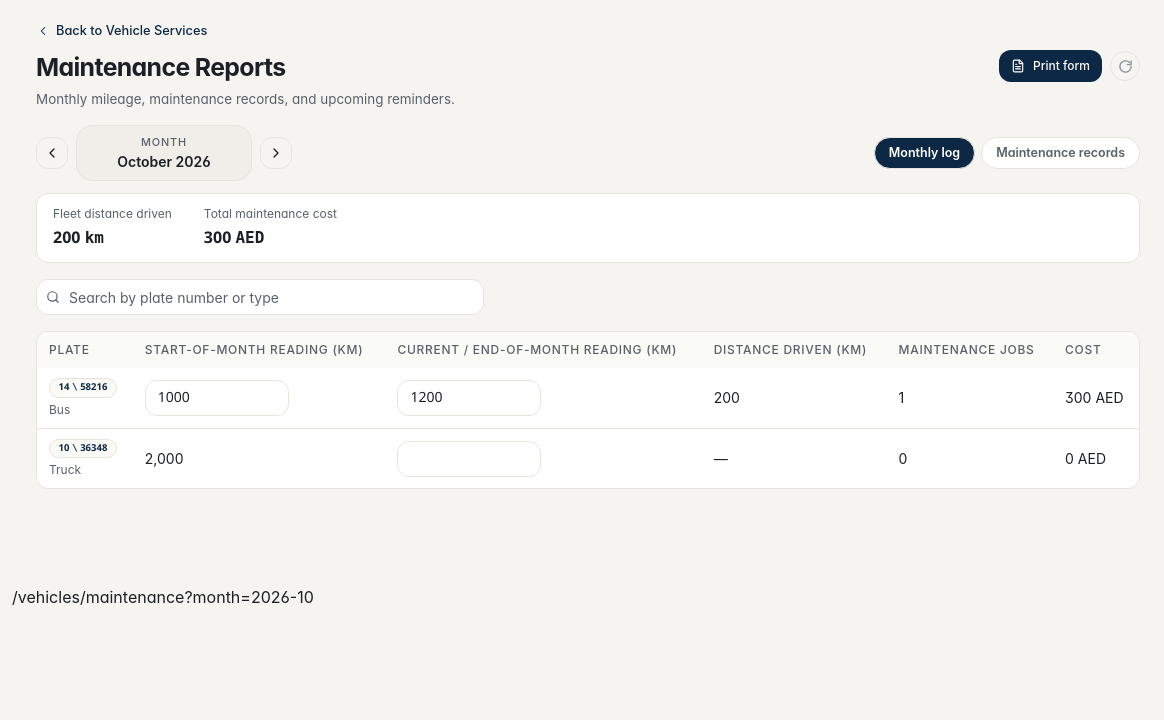
Test: monthly vehicle maintenance › finds a vehicle by plate number typed in Arabic digits
This screenshot has width=1164, height=720.
Expected: the text "Bus" is shown, [49, 402, 70, 418]
Type "١٠ ٣٦٣٤٨" into the search field labelled "Search by plate number or type" at point(260, 297), box [36, 279, 484, 315]
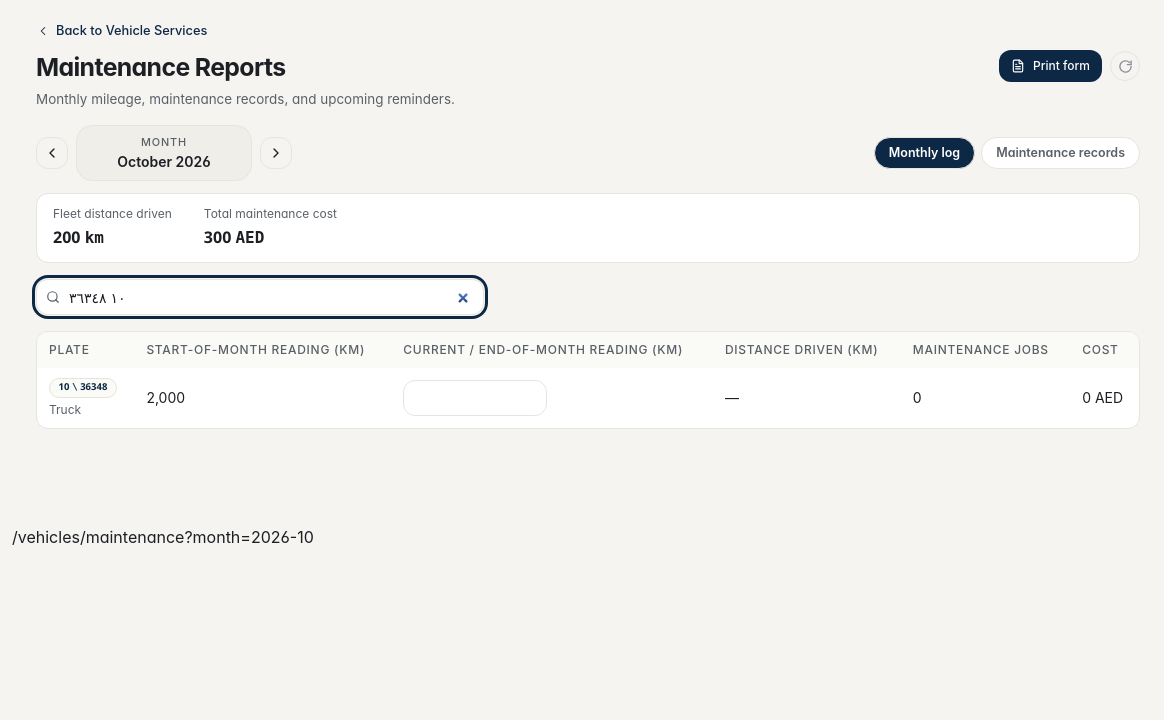
Expected: the text "Truck" is shown, [49, 402, 81, 418]
Expected: the text "Bus" is gone
